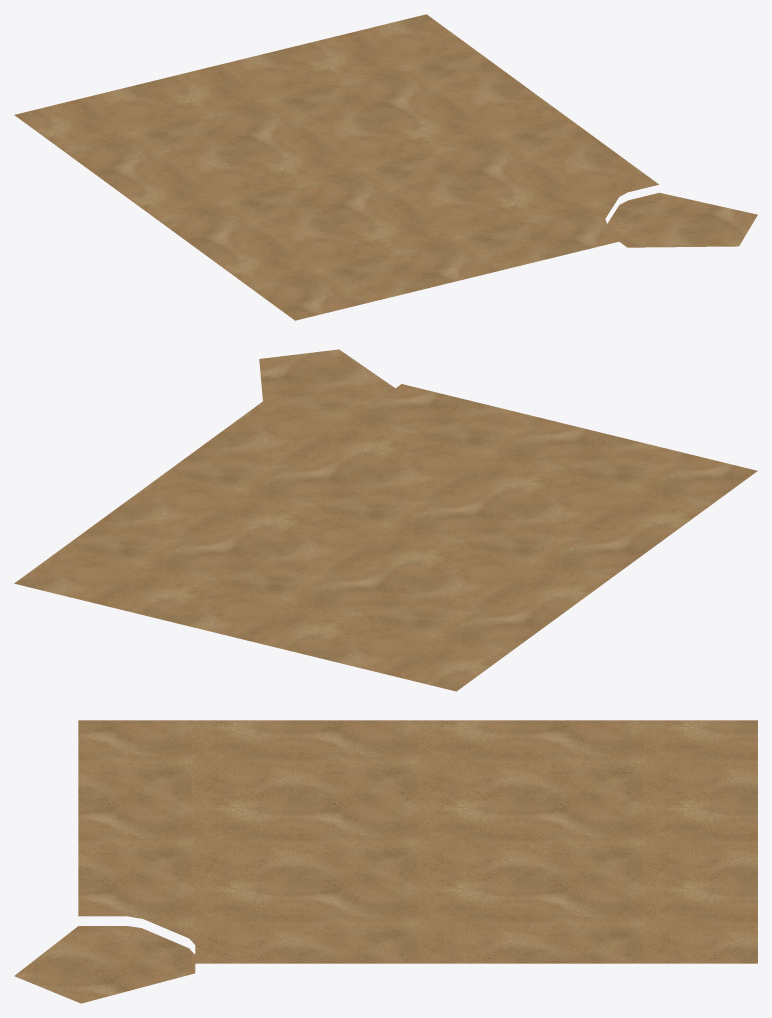
Rendered from Terrain02_LostTemple_003.FBX.
3 views of the same model, one above another, from view 1: azimuth 30°, elevation 25°; view 2: azimuth 150°, elevation 25°; view 3: azimuth 270°, elevation 25° (orthographic). The views are drawn at different scales.
Parts seen in each view (by area): view 1: Terrain02_LostTemple_003; view 2: Terrain02_LostTemple_003; view 3: Terrain02_LostTemple_003.
Boxes of the visible parts, x1,y1,x2,y2 form: Terrain02_LostTemple_003: [14, 14, 757, 320]; Terrain02_LostTemple_003: [14, 349, 757, 691]; Terrain02_LostTemple_003: [14, 720, 757, 1003].
Size of the model in its own units: 8500 by 141 by 9768.
Materials: 1 (1 with a texture image).
